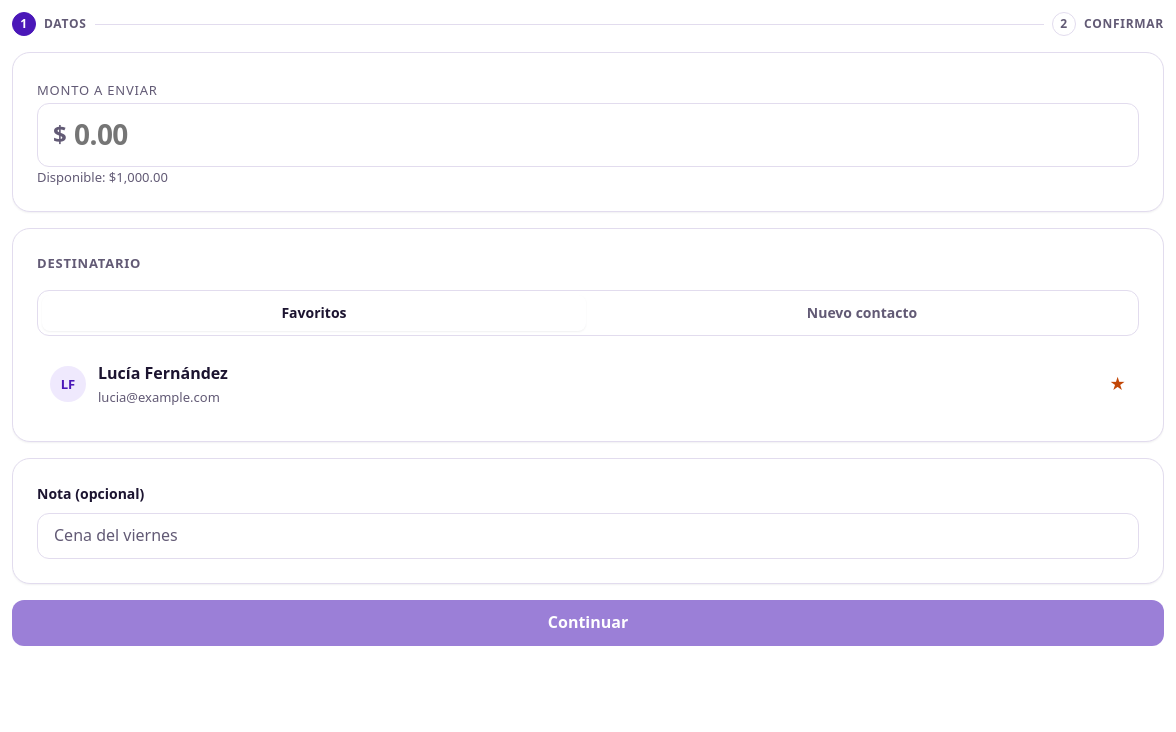
Test case: TransferFlow › advances to the review step with the entered values
Click the button "LF Lucía Fernández lucia@example.com ★" at [68, 384], box [37,352,1139,417]
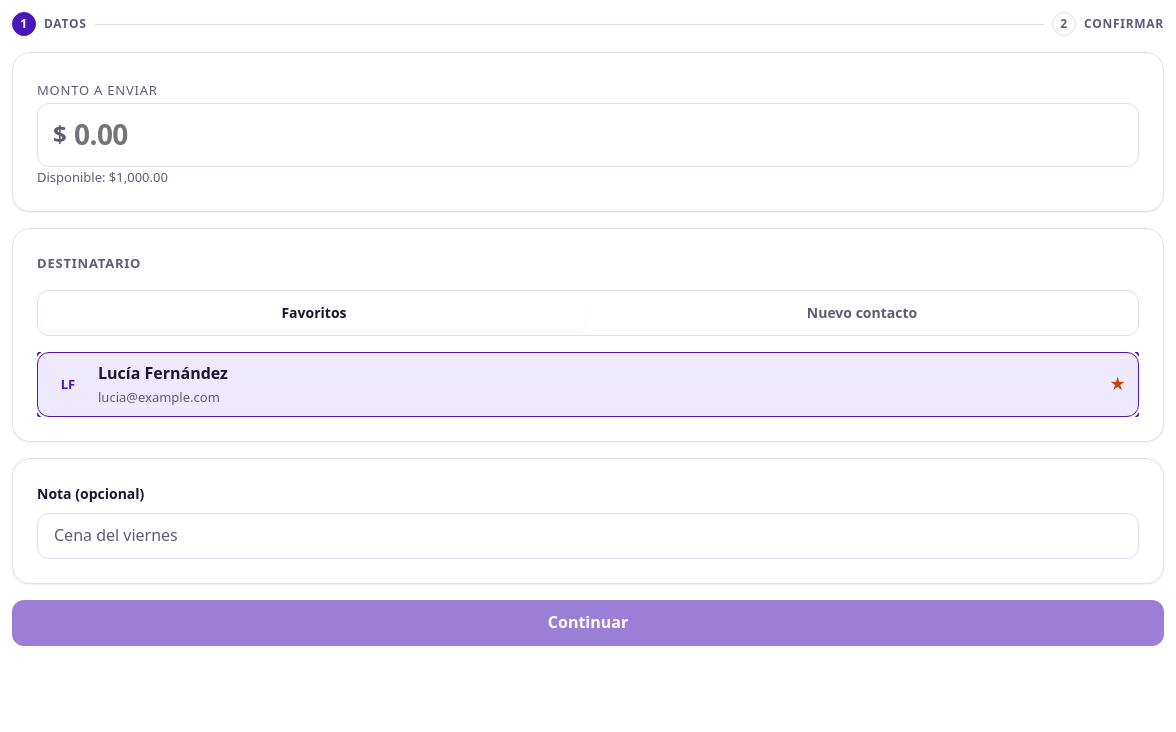
Type "42.75" into the field labelled "Monto a enviar" at [588, 135], box [37,103,1139,167]
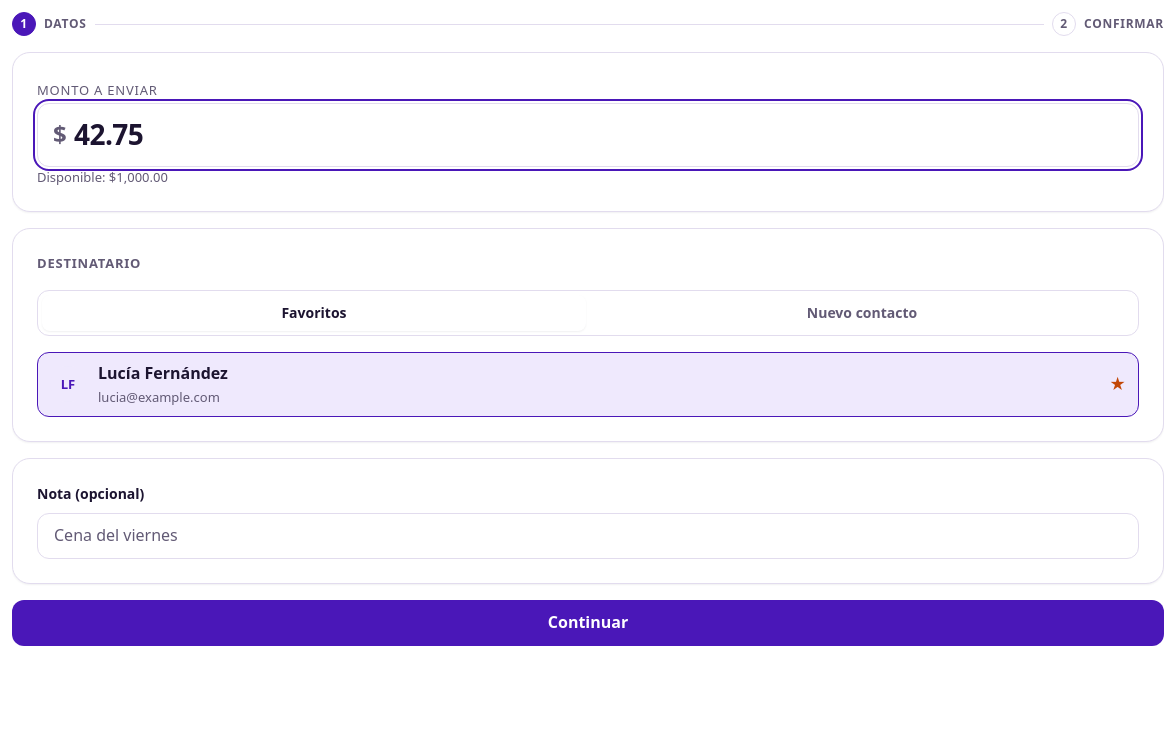
Click the button with test id "continue" at [588, 623], box [12,600,1164,646]
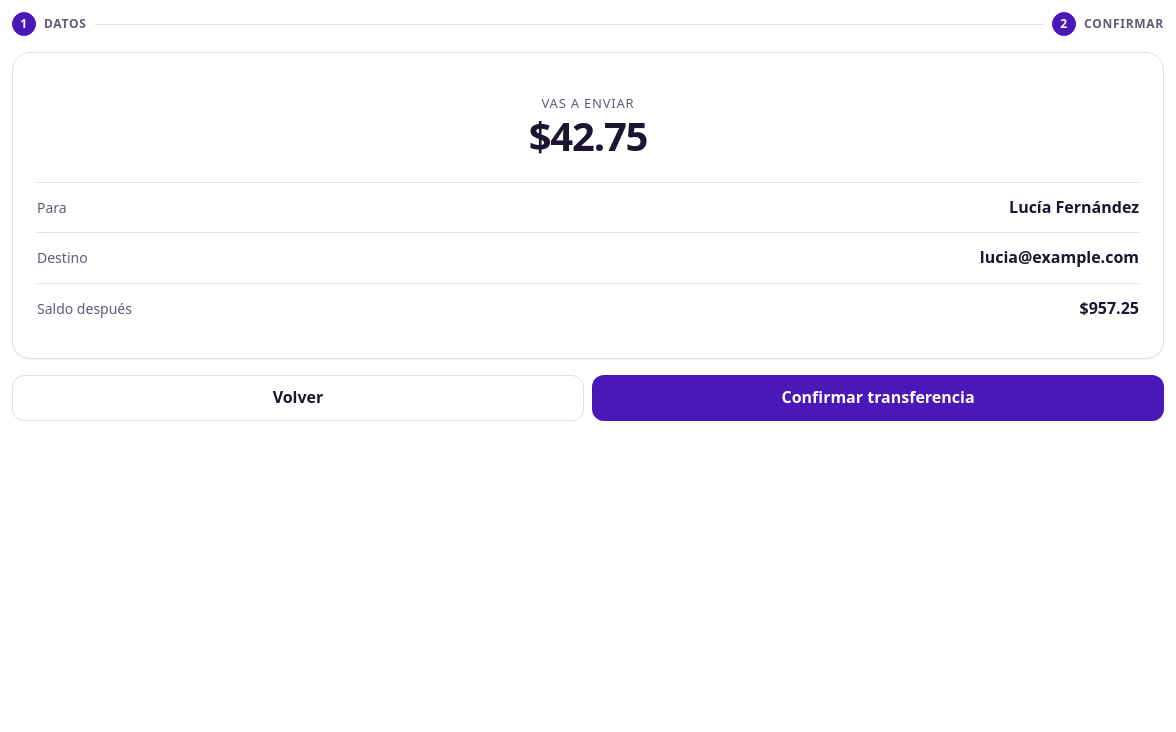
Expected: the text with test id "summary-recipient" reads "Lucía Fernández", [1009,196,1139,218]
Expected: the text with test id "summary-amount" reads "$42.75", [529,108,647,163]
